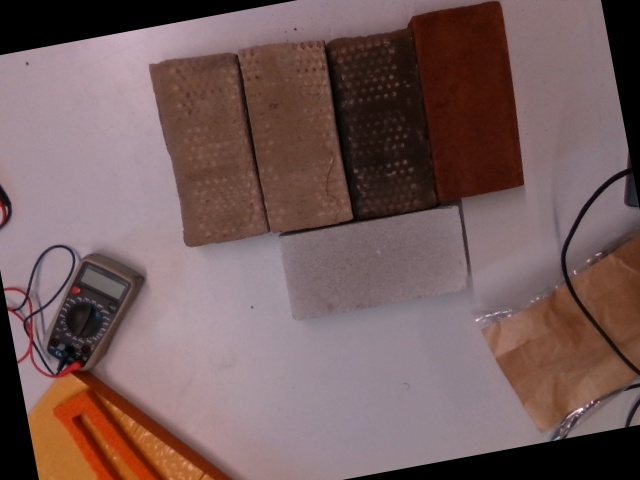brick: (415, 6, 524, 199), (243, 43, 347, 233), (161, 55, 262, 246), (286, 212, 469, 317), (333, 32, 433, 216)
